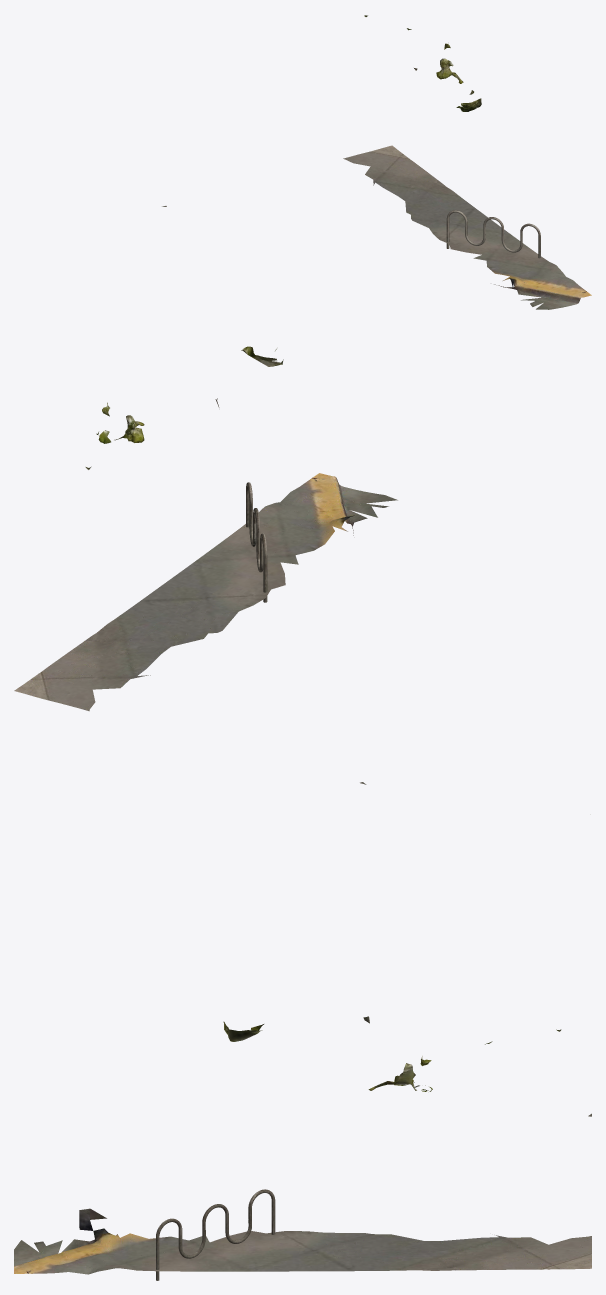
3 views of the same model, one above another, from view 1: azimuth 30°, elevation 25°; view 2: azimuth 150°, elevation 25°; view 3: azimuth 270°, elevation 25° (orthographic). The views are drawn at different scales.
Size of the model in its own units: 10.98 by 4.36 by 10.05.
1 material, 1 textured.
